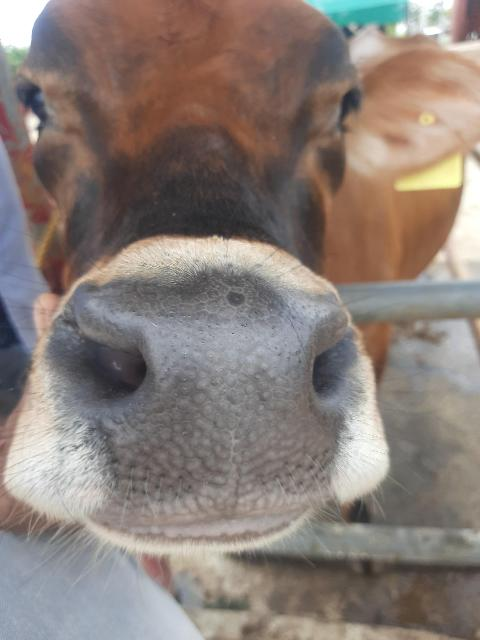Muzzle: (98, 282, 314, 514)
